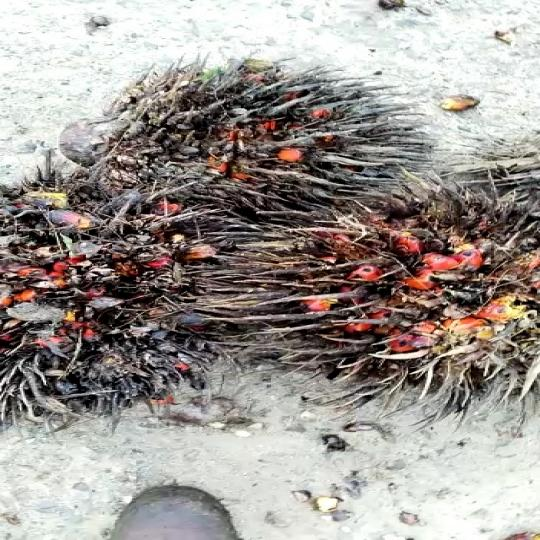terlalu masak: (0, 184, 301, 418), (282, 167, 540, 408), (84, 67, 432, 229)
